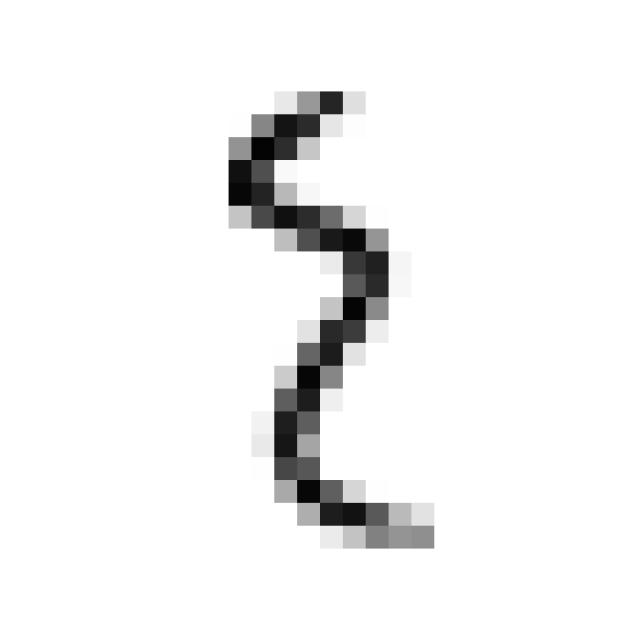4 -four-: (203, 62, 449, 563)
